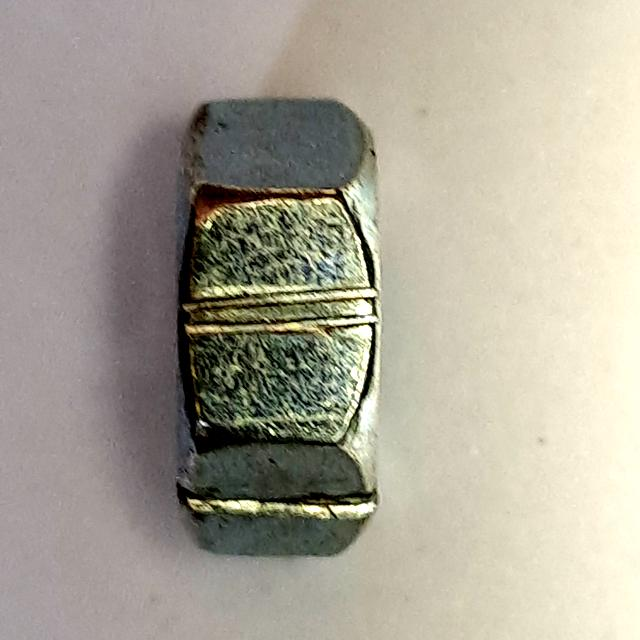Side_Scratches: (147, 66, 404, 582)
